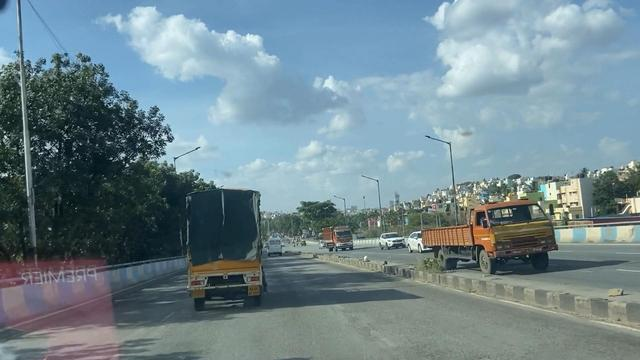HMV: (175, 179, 268, 306)
